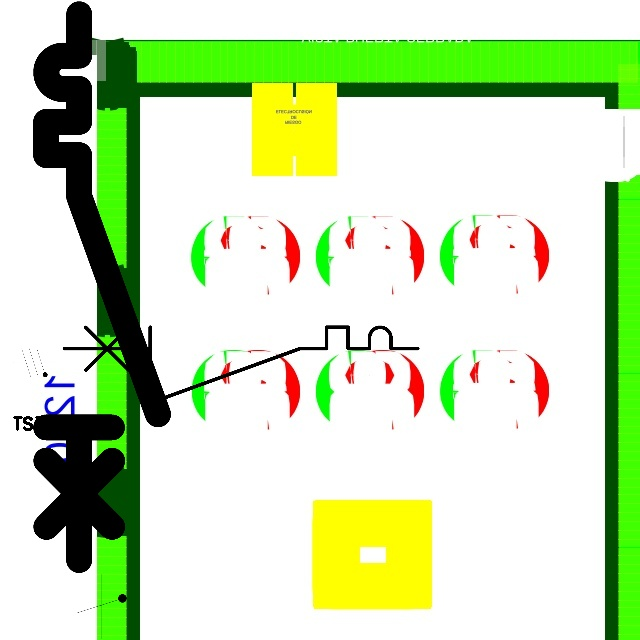interruptor_termomagnetico: (32, 0, 172, 574), (55, 318, 427, 409)
